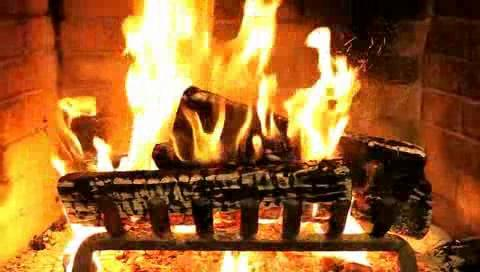fire: (103, 0, 371, 187)
